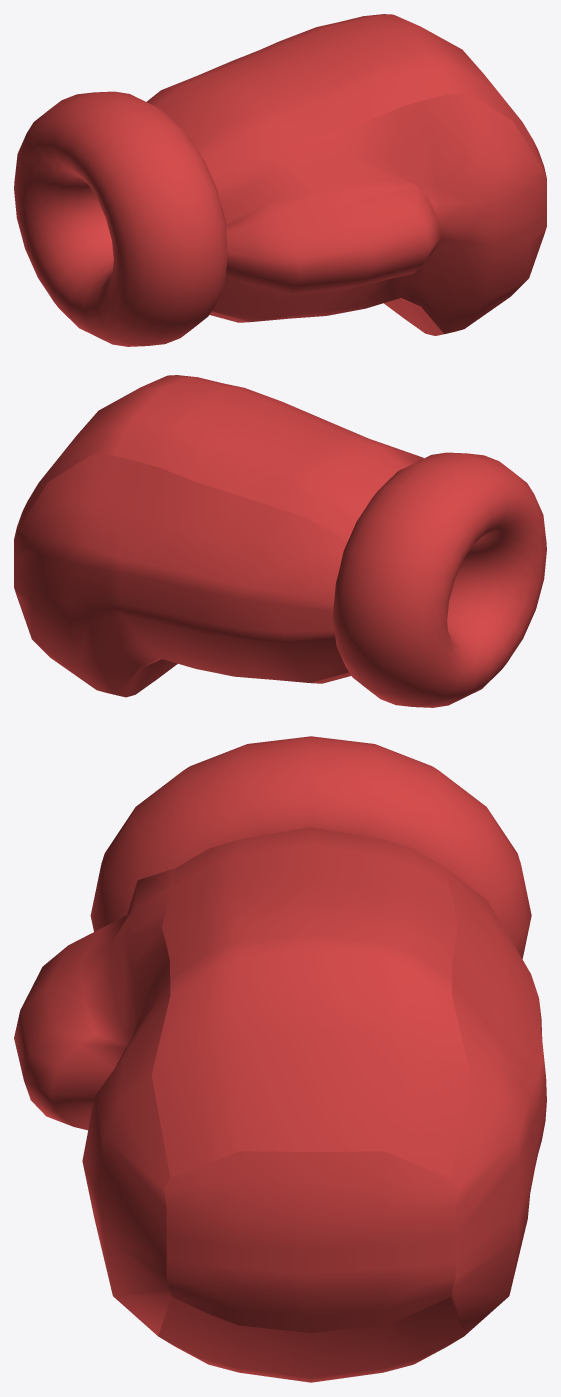
File: BoxingGloveL.fbx
3 renders of one model, top to bottom at view 1: azimuth 30°, elevation 25°; view 2: azimuth 150°, elevation 25°; view 3: azimuth 270°, elevation 25°, orthographic. The views are drawn at different scales.
Visible parts, largest first — view 1: pTorus2; view 2: pTorus2; view 3: pTorus2.
Boxes of the visible parts, bbox=[...] form: pTorus2: bbox=[14, 14, 546, 346]; pTorus2: bbox=[14, 375, 546, 707]; pTorus2: bbox=[14, 736, 546, 1382].
Size of the model in its own units: 1.76 by 1.1 by 1.23.
